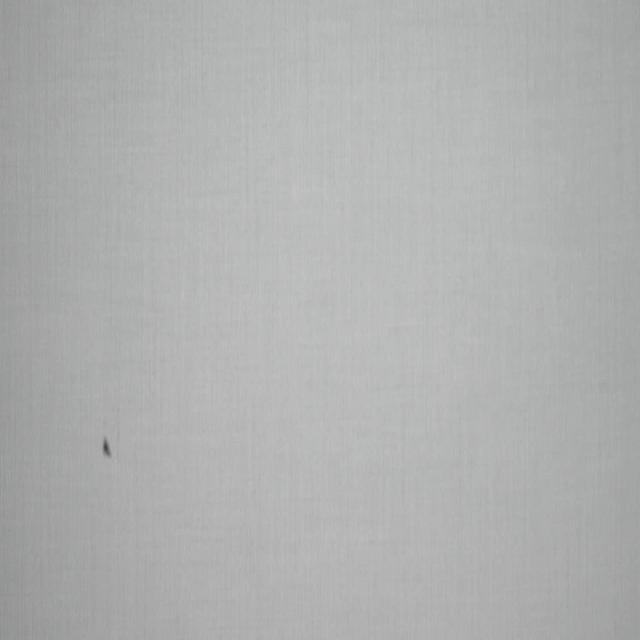dirty: (102, 436, 113, 461)
